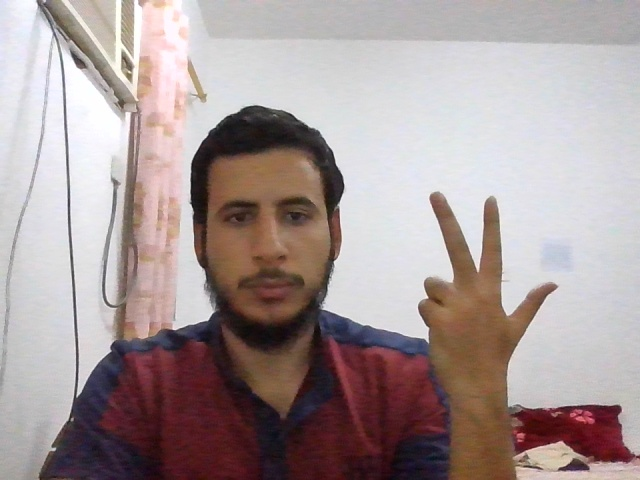Three: (418, 192, 560, 386)
